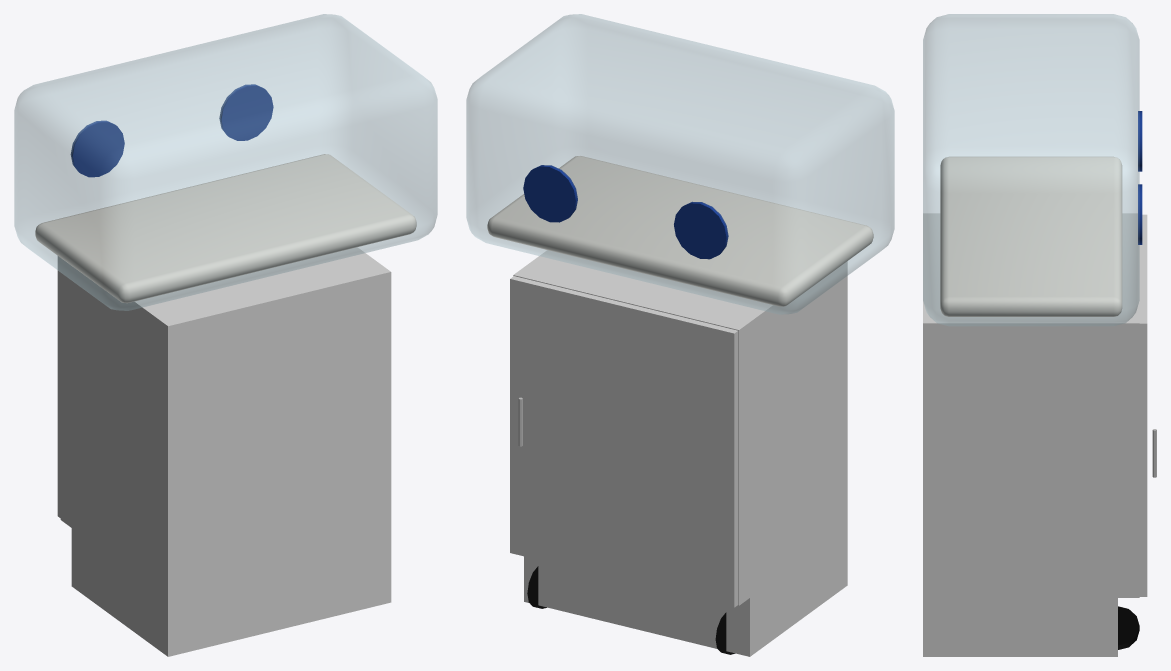
Rendered from hospital.bed.incubator.glb.
3 renders of one model, left to right at view 1: azimuth 30°, elevation 25°; view 2: azimuth 150°, elevation 25°; view 3: azimuth 270°, elevation 25°, orthographic.
Visible parts, largest first — view 1: main__plastic_white, main__glass, main__fabric_white, main__plastic_blue; view 2: main__plastic_white, main__glass, main__fabric_white, main__plastic_blue, main__rubber; view 3: main__plastic_white, main__glass, main__fabric_white, main__rubber, main__plastic_blue.
Part boxes in pixels (x1,y1,x2,y2): main__plastic_white: (57, 247, 391, 656); main__glass: (14, 14, 437, 310); main__fabric_white: (35, 154, 416, 303); main__plastic_blue: (70, 84, 273, 177); main__plastic_white: (510, 250, 847, 656); main__glass: (466, 14, 894, 314); main__fabric_white: (487, 156, 873, 306); main__plastic_blue: (523, 165, 728, 259); main__rubber: (527, 566, 735, 654); main__plastic_white: (923, 213, 1147, 656); main__glass: (923, 14, 1139, 325); main__fabric_white: (940, 156, 1122, 316); main__rubber: (1118, 606, 1139, 649); main__plastic_blue: (1138, 111, 1142, 244).
Bounding box in the file's own units: 0.9 × 1.31 × 0.54.
